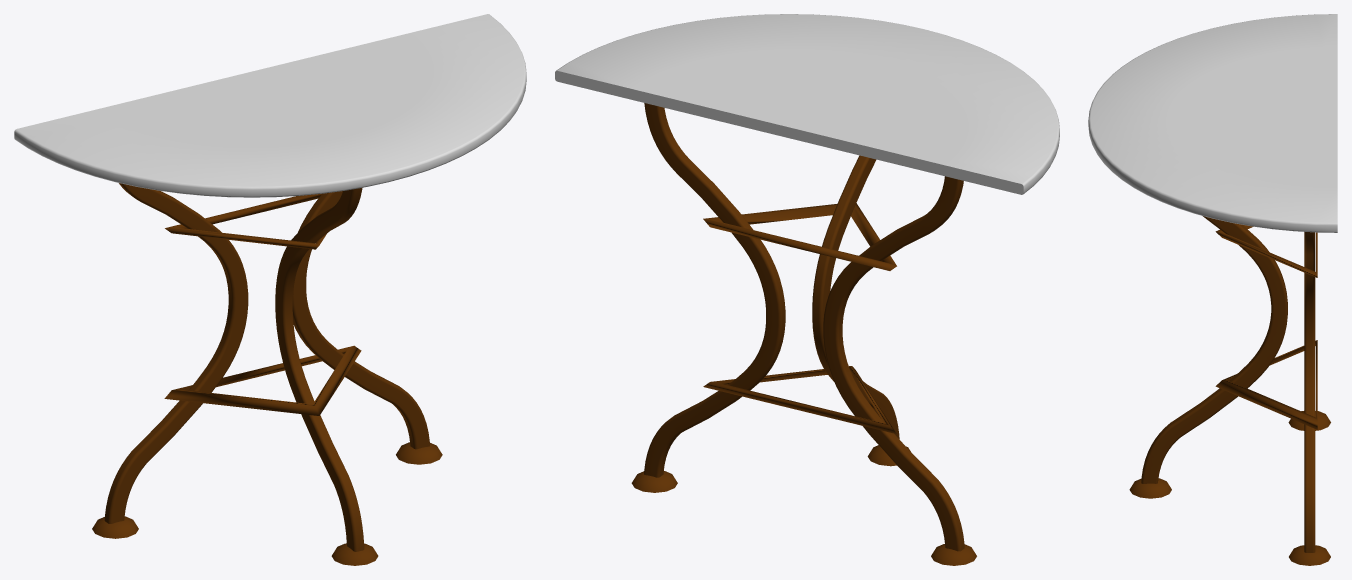
Rendered from dtable_tris.obj.
The picture shows the model from 3 angles, left to right: view 1: azimuth 30°, elevation 25°; view 2: azimuth 150°, elevation 25°; view 3: azimuth 270°, elevation 25°; orthographic projection. The views are drawn at different scales.
Parts seen in each view (by area): view 1: Table TopTable Mesh, Table LegTable Leg3 Mesh, Table LegTable Leg Mesh, Table LegTable Leg2 Mesh, Table LegTable BottomRod Mesh, Table LegTable TopRod Mesh, Table LegTable Leg2 Foot1 Mesh, Table LegTable Leg Foot2 Mesh, Table LegTable Leg3 Foot Mesh; view 2: Table TopTable Mesh, Table LegTable Leg3 Mesh, Table LegTable Leg2 Mesh, Table LegTable Leg Mesh, Table LegTable TopRod Mesh, Table LegTable BottomRod Mesh, Table LegTable Leg2 Foot1 Mesh, Table LegTable Leg3 Foot Mesh; view 3: Table TopTable Mesh, Table LegTable Leg Mesh, Table LegTable Leg2 Mesh, Table LegTable BottomRod Mesh, Table LegTable TopRod Mesh, Table LegTable Leg2 Foot1 Mesh, Table LegTable Leg Foot2 Mesh, Table LegTable Leg3 Foot Mesh.
Part boxes in pixels (x1,y1,x2,y2): Table TopTable Mesh: (14,14,526,197); Table LegTable Leg3 Mesh: (104,183,248,523); Table LegTable Leg Mesh: (275,187,364,551); Table LegTable Leg2 Mesh: (292,191,429,449); Table LegTable BottomRod Mesh: (164,345,361,415); Table LegTable TopRod Mesh: (165,194,326,249); Table LegTable Leg2 Foot1 Mesh: (396,442,442,464); Table LegTable Leg Foot2 Mesh: (331,543,378,565); Table LegTable Leg3 Foot Mesh: (92,516,138,538); Table TopTable Mesh: (555,14,1059,194); Table LegTable Leg3 Mesh: (823,176,964,551); Table LegTable Leg2 Mesh: (644,103,785,477); Table LegTable Leg Mesh: (812,155,899,438); Table LegTable TopRod Mesh: (703,203,896,270); Table LegTable BottomRod Mesh: (703,366,896,433); Table LegTable Leg2 Foot1 Mesh: (631,471,677,492); Table LegTable Leg3 Foot Mesh: (931,544,976,565); Table TopTable Mesh: (1088,14,1337,232); Table LegTable Leg Mesh: (1141,216,1287,483); Table LegTable Leg2 Mesh: (1304,232,1315,552); Table LegTable BottomRod Mesh: (1215,340,1317,429); Table LegTable TopRod Mesh: (1215,225,1317,277); Table LegTable Leg2 Foot1 Mesh: (1289,545,1330,565); Table LegTable Leg Foot2 Mesh: (1129,478,1171,498); Table LegTable Leg3 Foot Mesh: (1288,411,1330,430).
Size of the model in its own units: 90 by 74.11 by 45.
